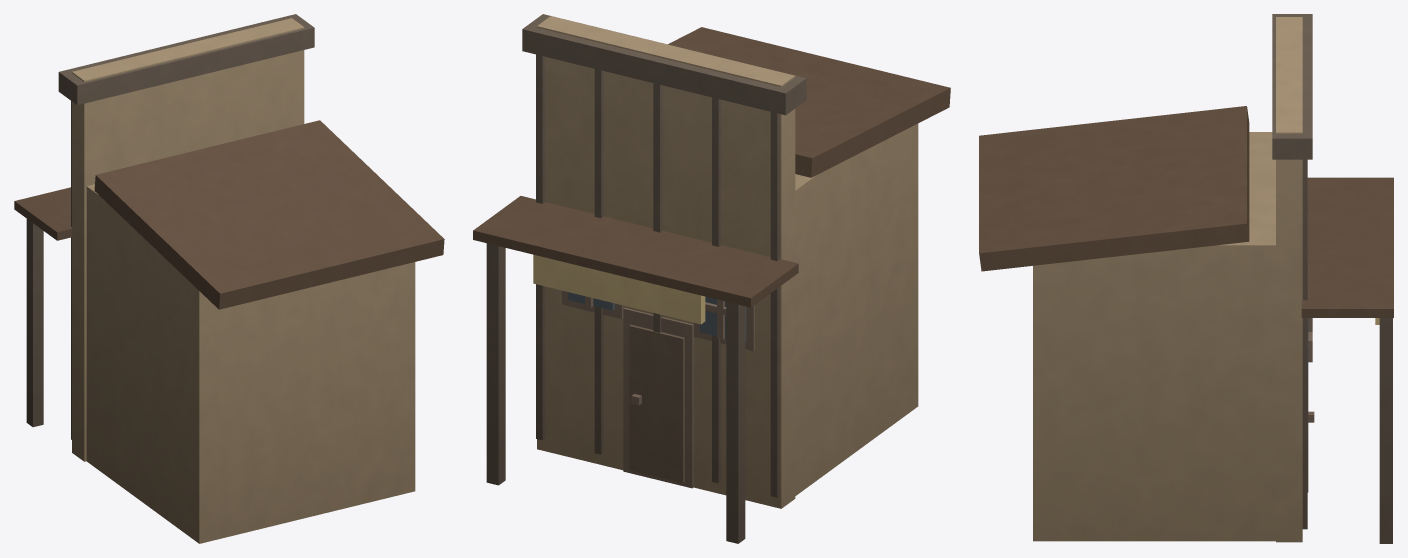
The model's file is building_saloon.glb.
The picture shows the model from 3 angles, left to right: view 1: azimuth 30°, elevation 25°; view 2: azimuth 150°, elevation 25°; view 3: azimuth 270°, elevation 25°; orthographic projection. The views are drawn at different scales.
Parts seen in each view (by area): view 1: building_saloon; view 2: building_saloon; view 3: building_saloon.
Boxes of the visible parts, <box> form: building_saloon: <box>14,14,444,543</box>; building_saloon: <box>473,14,950,543</box>; building_saloon: <box>979,14,1393,543</box>.
Bounding box in the file's own units: 1.86 × 2.7 × 2.48.
1 material, 1 textured.
